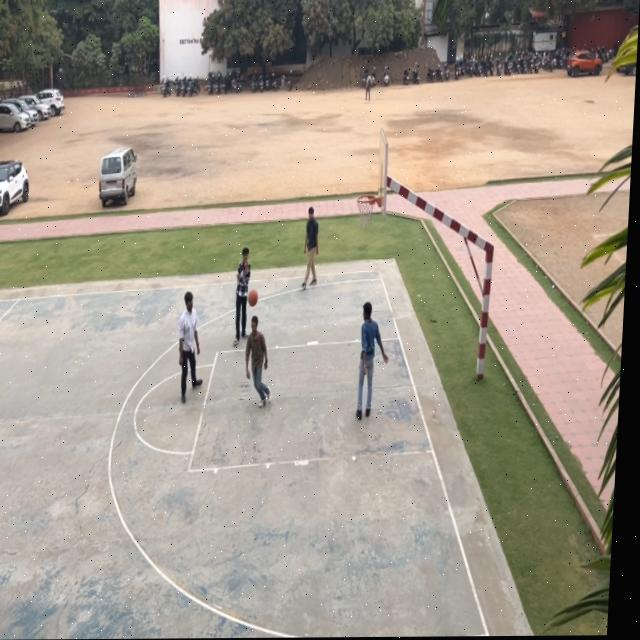basketball: (247, 287, 259, 309)
hoop: (356, 194, 376, 229)
